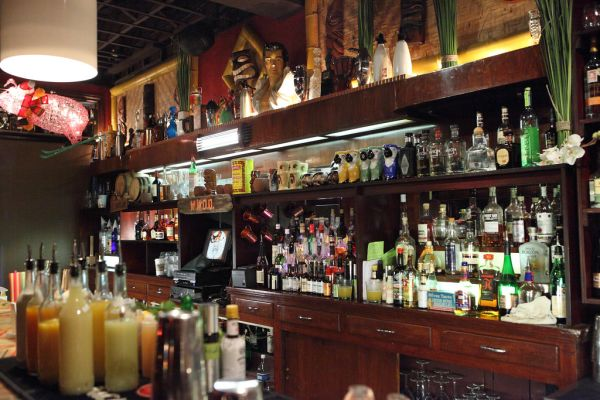unknown_bottle: (58, 267, 95, 396), (103, 265, 140, 393), (36, 264, 63, 386), (15, 263, 41, 373), (90, 263, 113, 387), (25, 261, 45, 378), (222, 307, 246, 381), (519, 87, 541, 167), (394, 194, 417, 269), (497, 236, 518, 317), (480, 186, 504, 252), (583, 38, 600, 119), (495, 105, 513, 169), (392, 248, 407, 307)
